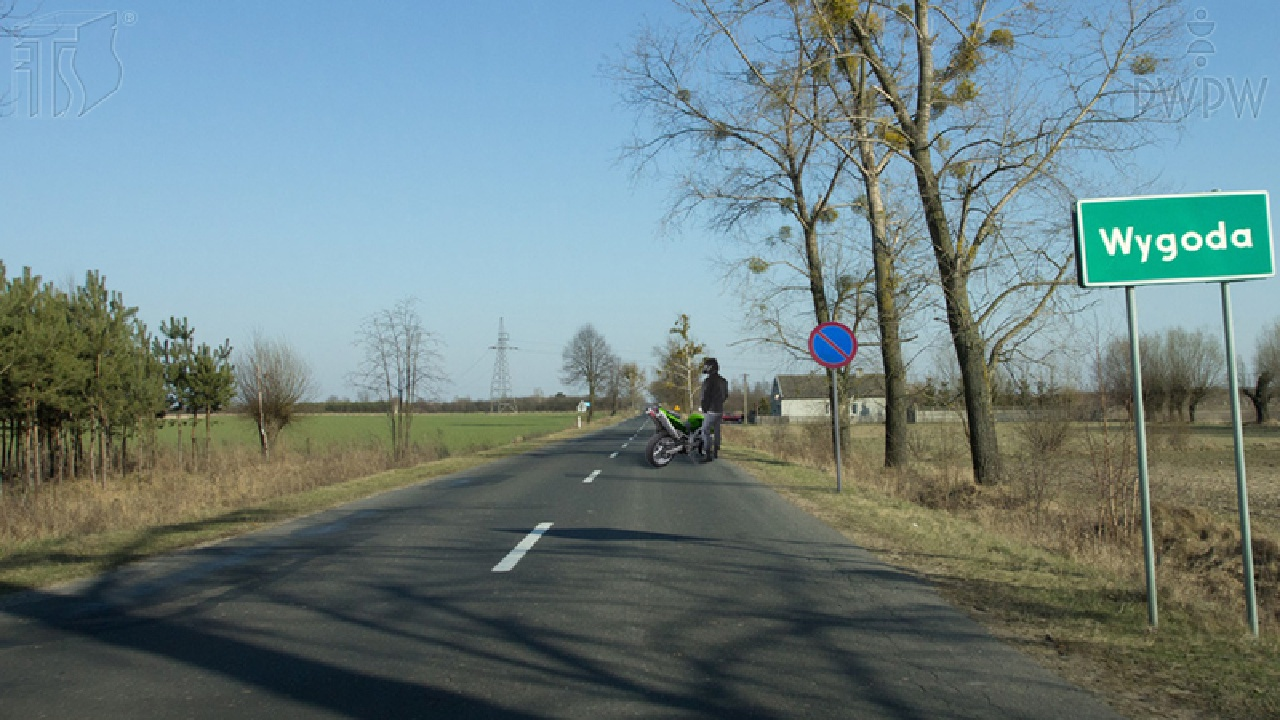B35: (808, 323, 859, 369)
